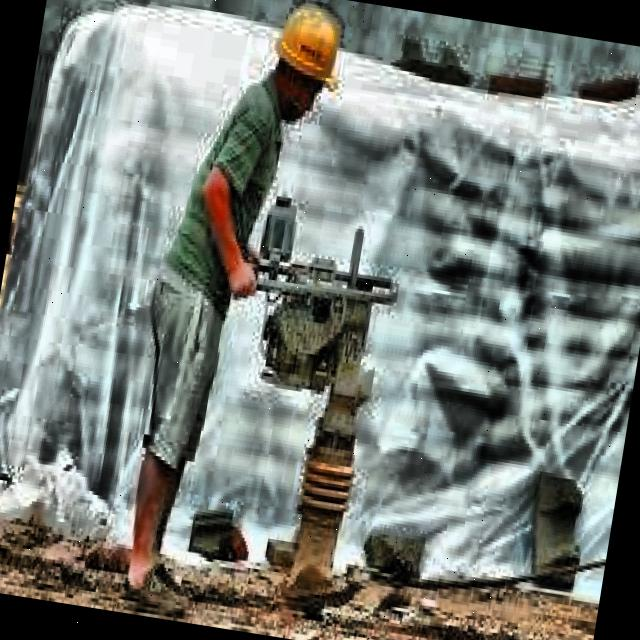helmet: (261, 0, 352, 128)
